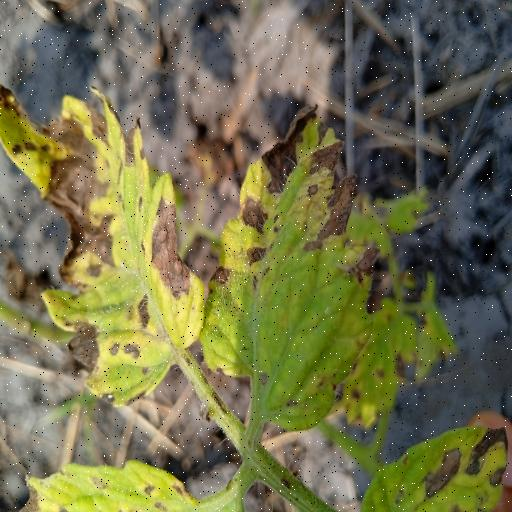Tomato_Brown_Spots: (0, 80, 210, 410), (203, 98, 367, 445)
